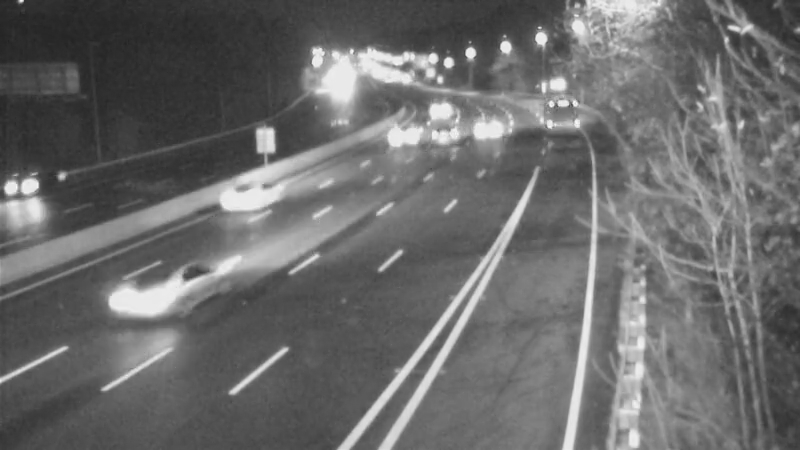vehicle: (202, 161, 282, 241), (100, 258, 180, 338), (1, 142, 68, 222), (379, 112, 429, 162), (518, 78, 568, 128), (413, 81, 463, 131), (466, 104, 516, 154), (426, 102, 476, 152)
